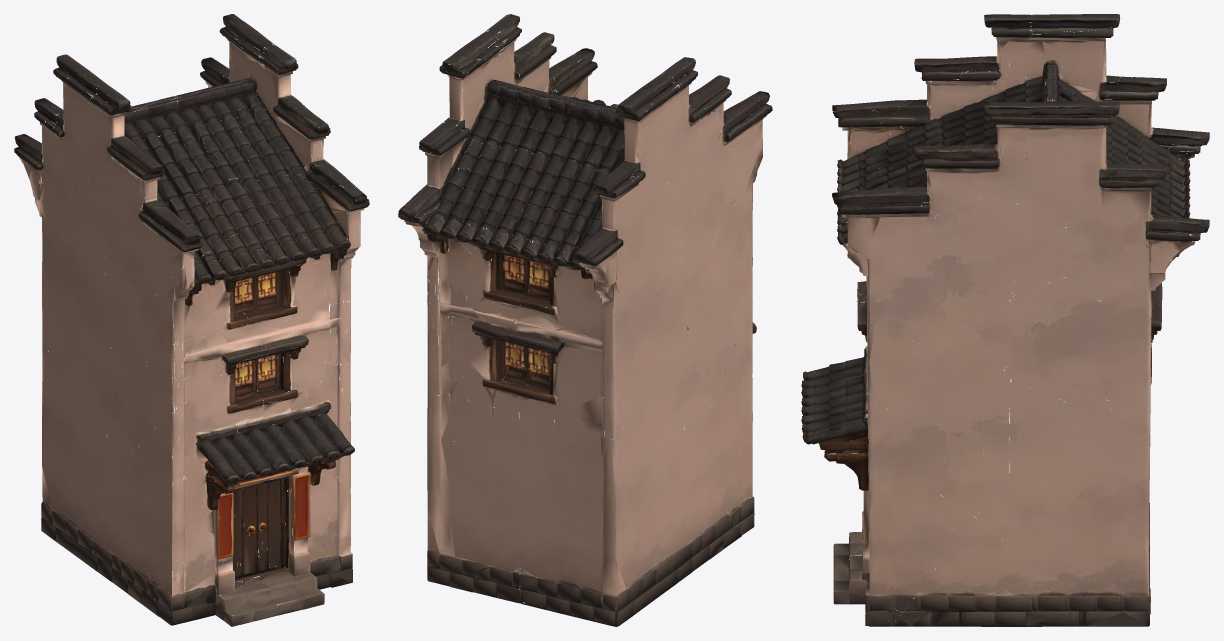
Rendered from house_e_40k.glb.
The picture shows the model from 3 angles, left to right: view 1: azimuth 30°, elevation 25°; view 2: azimuth 150°, elevation 25°; view 3: azimuth 270°, elevation 25°; orthographic projection. The views are drawn at different scales.
Parts seen in each view (by area): view 1: tripo_node_f9603d34-b6d4-4fde-a0ba-81afcb214336; view 2: tripo_node_f9603d34-b6d4-4fde-a0ba-81afcb214336; view 3: tripo_node_f9603d34-b6d4-4fde-a0ba-81afcb214336.
Part boxes in pixels (bbox=[...]): tripo_node_f9603d34-b6d4-4fde-a0ba-81afcb214336: bbox=[14, 14, 369, 626]; tripo_node_f9603d34-b6d4-4fde-a0ba-81afcb214336: bbox=[398, 14, 772, 626]; tripo_node_f9603d34-b6d4-4fde-a0ba-81afcb214336: bbox=[801, 14, 1209, 626].
Bounding box in the file's own units: 0.4028 × 0.9788 × 0.6967.
Materials: 1 (1 with a texture image).
